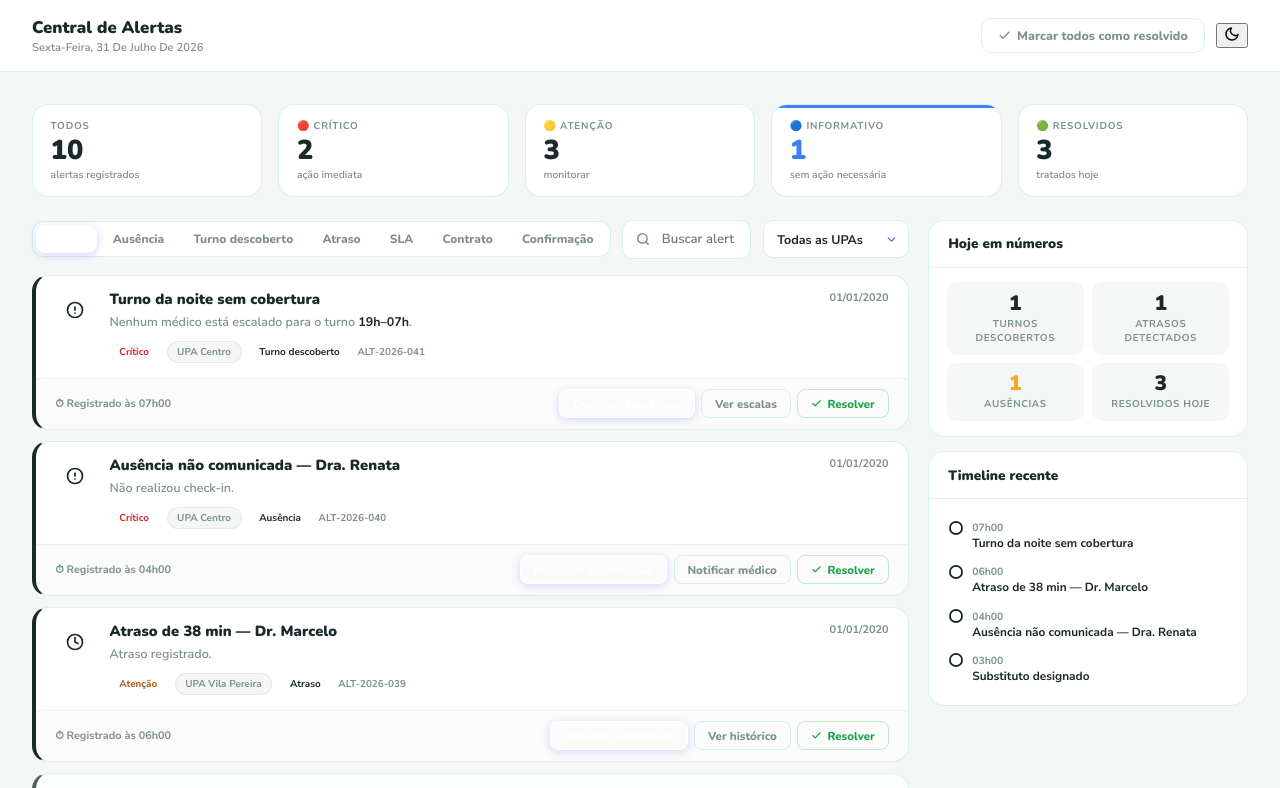
Test: <AdminAlertas /> › filtra por KPI de crítico
The image size is (1280, 788).
Expected: the element with class "alt-list" shows "Turno da noite sem cobertura", [110,289,320,309]
# click no KPI Crítico
Click the element with class "critico" showing "🔴 Crítico 2 ação imediata". click: click(394, 151)
box: [278,104,509,197]
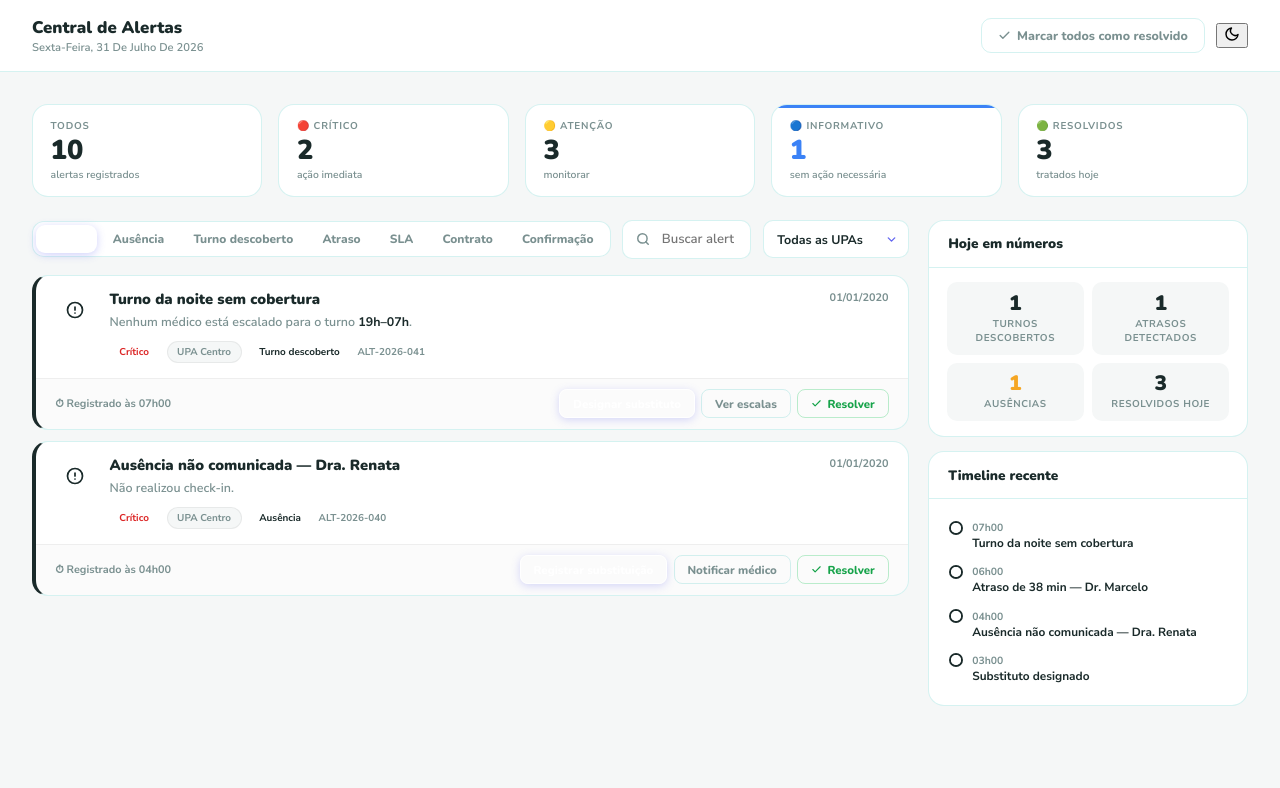
Expected: the element with class "alt-list" shows "Turno da noite sem cobertura", [110,289,320,309]
Result: the element with class "alt-list" no longer shows "Atraso de 38 min"
